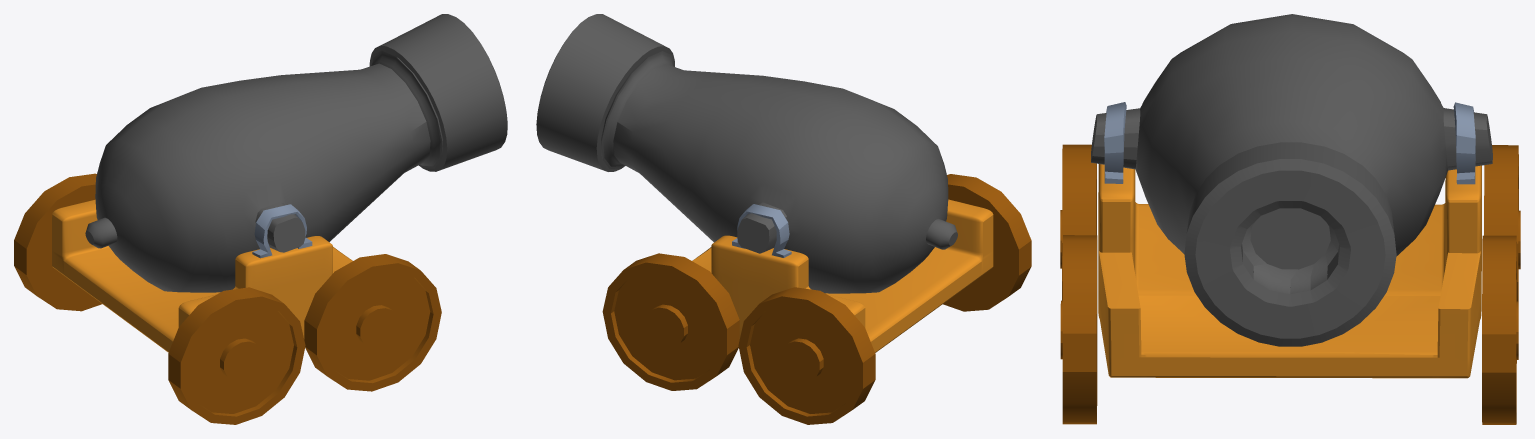
The model's file is Cannone.fbx.
The picture shows the model from 3 angles, left to right: view 1: azimuth 30°, elevation 25°; view 2: azimuth 150°, elevation 25°; view 3: azimuth 270°, elevation 25°; orthographic projection. The views are drawn at different scales.
Parts seen in each view (by area): view 1: cannone; view 2: cannone; view 3: cannone.
Part boxes in pixels (x1=…): cannone: x1=14, y1=14, x2=507, y2=424; cannone: x1=536, y1=14, x2=1031, y2=424; cannone: x1=1060, y1=14, x2=1520, y2=424.
Size of the model in its own units: 395 by 259 by 296.
